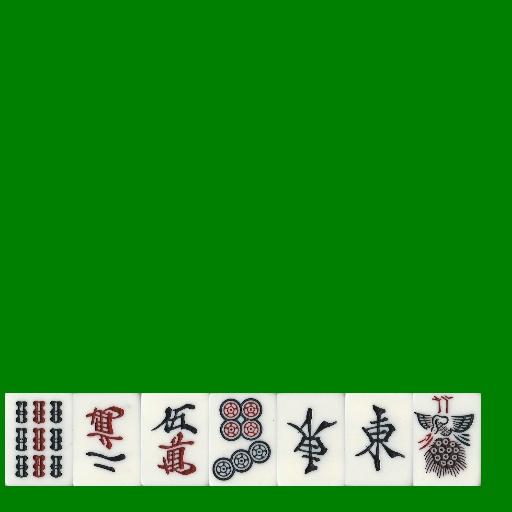1s: (413, 393, 481, 486)
2m: (73, 393, 141, 486)
5m: (141, 393, 209, 486)
7p: (209, 393, 277, 486)
9s: (5, 393, 73, 486)
east: (277, 393, 345, 486), (345, 393, 413, 486)
